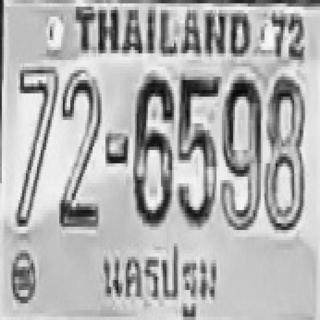N02: (57, 72, 100, 225)
N05: (176, 72, 218, 225)
N06: (132, 73, 173, 223)
N07: (13, 65, 58, 225)
N08: (264, 75, 306, 232)
N09: (220, 73, 261, 230)
P28: (99, 239, 220, 320)
